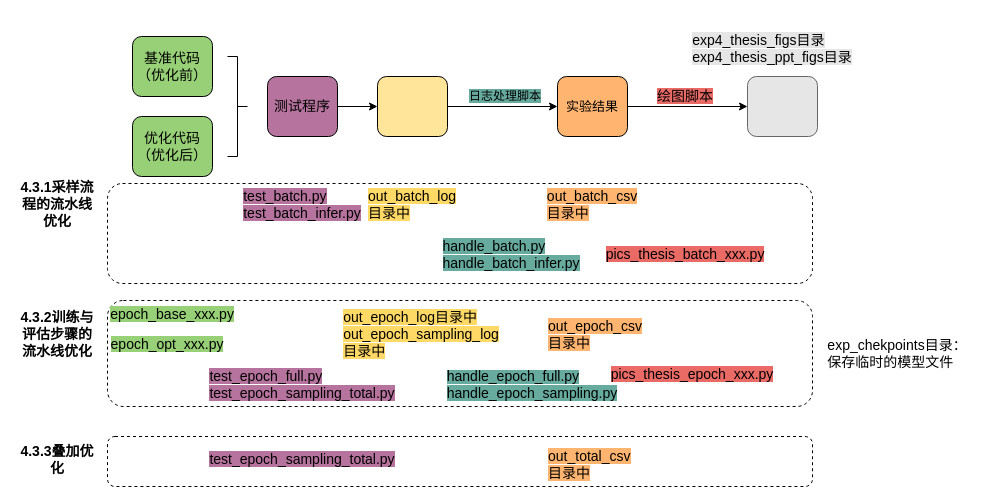
Image size: 994x504. Some labels were removed from this diagram. The shapes that lost their labels are listed below. From the top down, each one's box as (x1, y1, x2, y2) in pixels, then its label:
(376, 76, 448, 136): 运行日志
(746, 76, 818, 136): 实验图表
